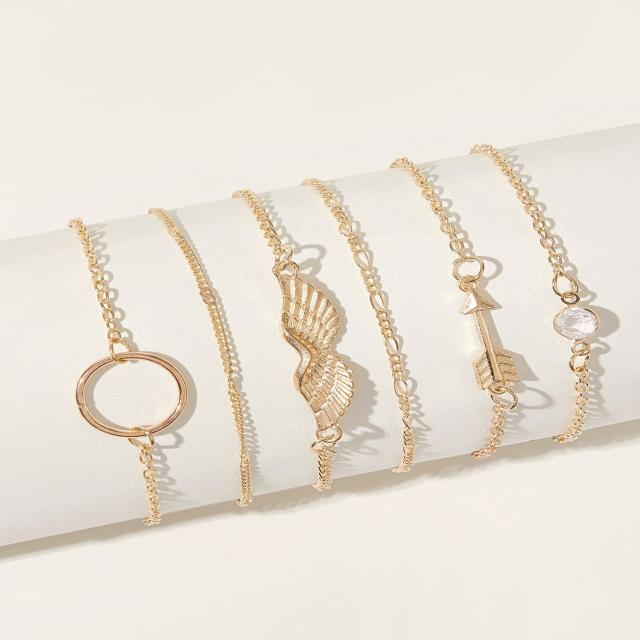bracelet: (2, 134, 640, 563)
